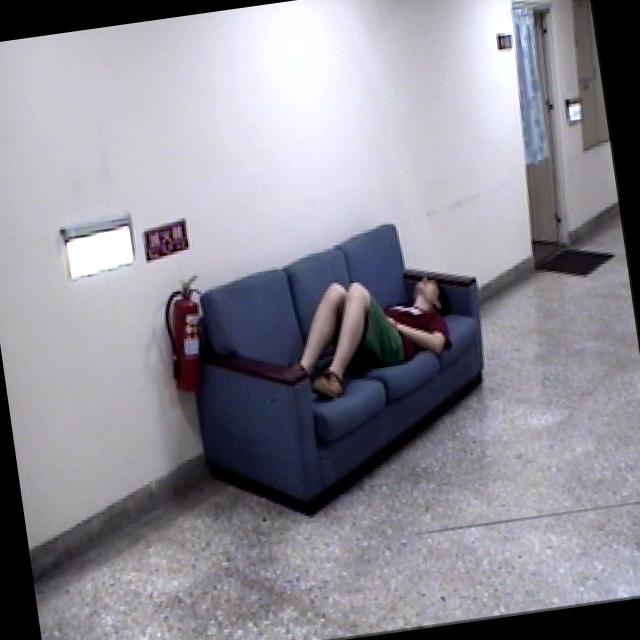lie: (264, 261, 464, 412)
